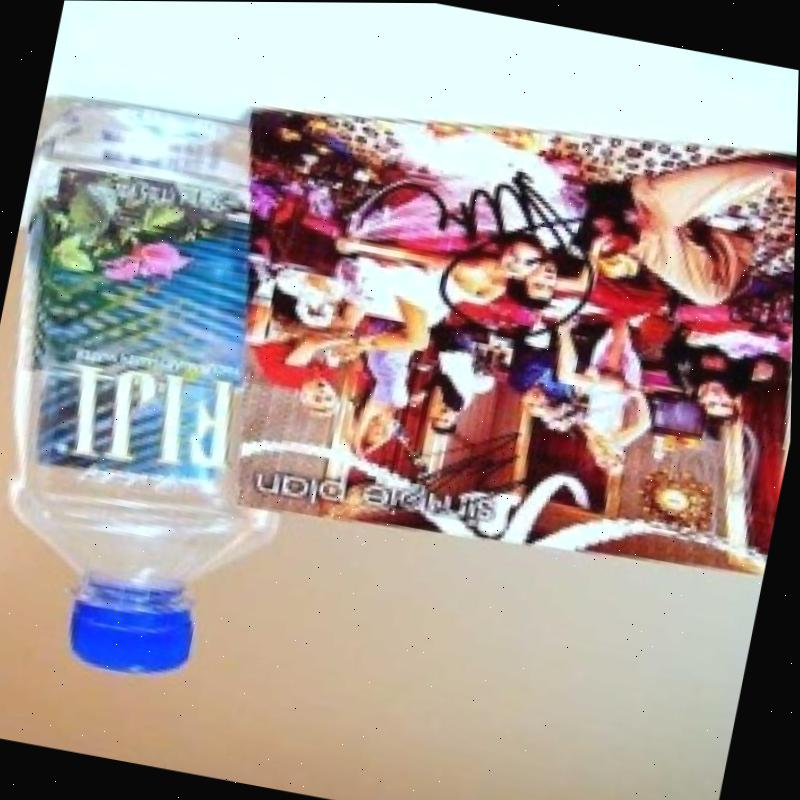botella: (0, 91, 364, 697)
